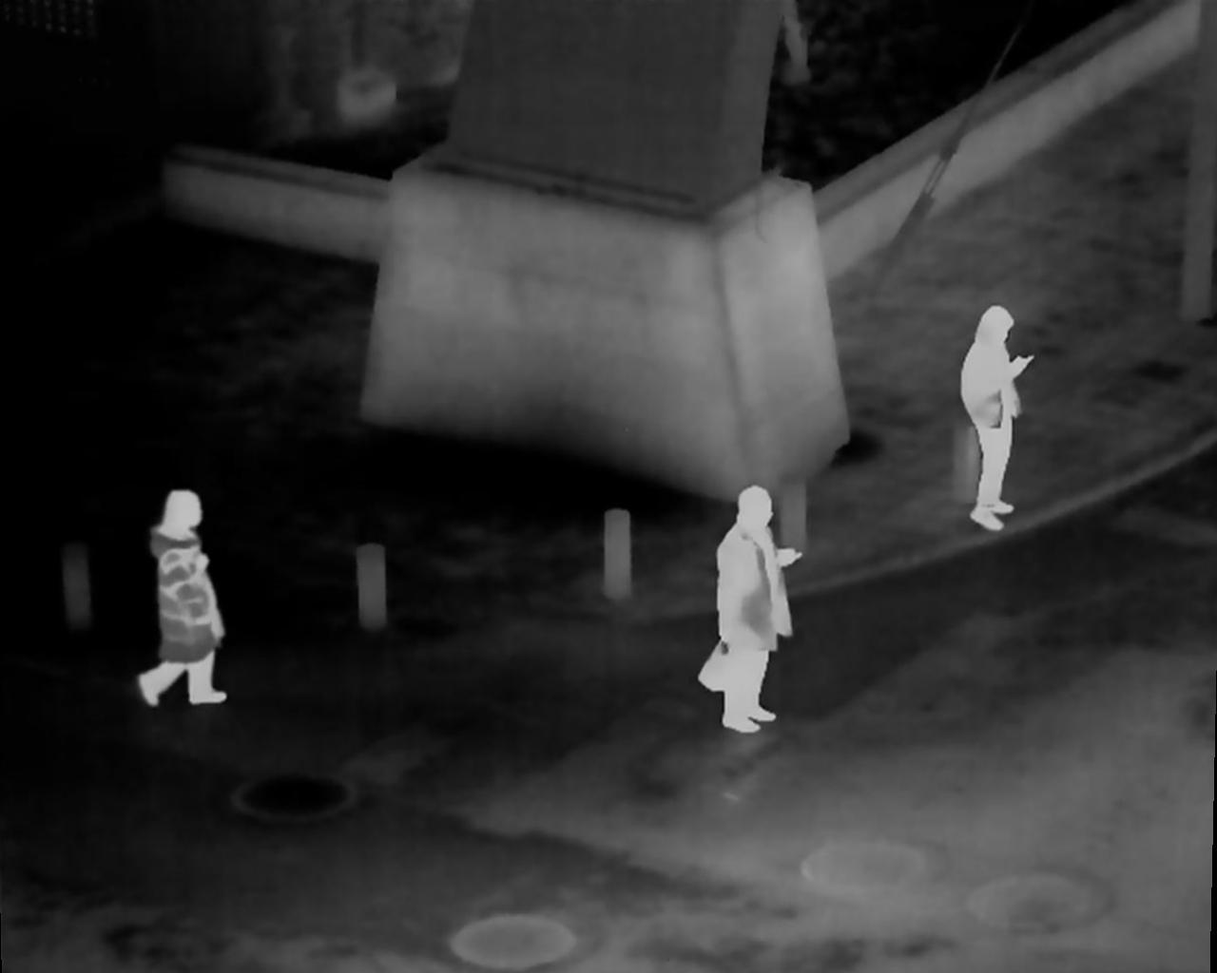person: (701, 483, 802, 736), (140, 483, 228, 704), (961, 305, 1032, 536)
